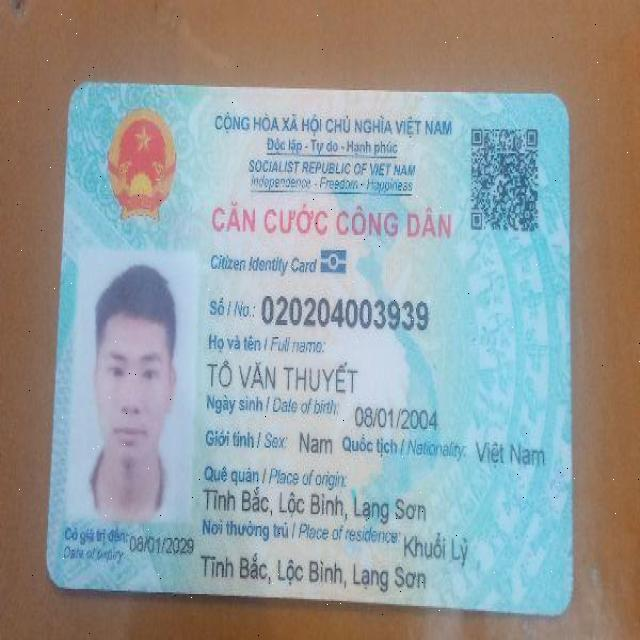current_place: (201, 551, 429, 597), (402, 525, 475, 571)
dob: (352, 398, 442, 436)
expire_date: (130, 533, 197, 558)
gender: (297, 425, 337, 459)
id: (255, 285, 431, 333)
name: (204, 355, 361, 396)
nationality: (473, 431, 553, 477)
origin_place: (204, 487, 429, 528)
